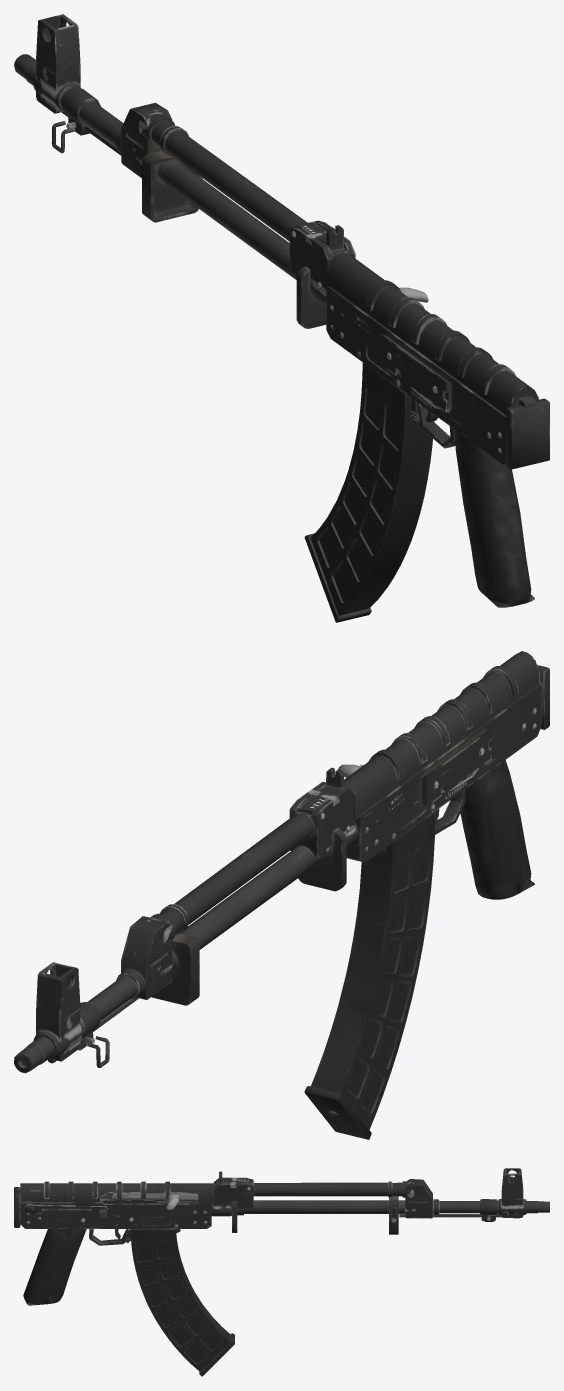
Rendered from fuzil_762_tatico_leve.glb.
The picture shows the model from 3 angles, top to bottom: view 1: azimuth 30°, elevation 25°; view 2: azimuth 150°, elevation 25°; view 3: azimuth 270°, elevation 25°; orthographic projection. The views are drawn at different scales.
Parts seen in each view (by area): view 1: fuzil_762_tatico_leve; view 2: fuzil_762_tatico_leve; view 3: fuzil_762_tatico_leve.
Part boxes in pixels (left/top/right/bottom): fuzil_762_tatico_leve: left=14, top=14, right=549, bottom=622; fuzil_762_tatico_leve: left=14, top=651, right=549, bottom=1139; fuzil_762_tatico_leve: left=14, top=1168, right=549, bottom=1376.
Bounding box in the file's own units: 0.0506 × 0.2756 × 0.6659.
Materials: 1 (1 with a texture image).
